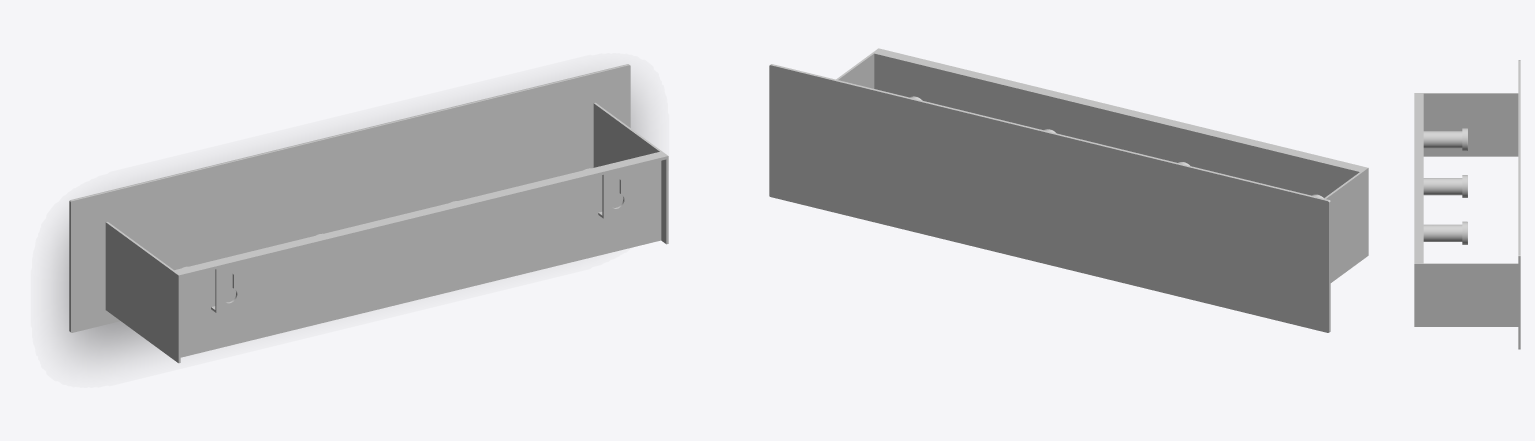
The model's file is skyline-hook.1c30da777a.ar.glb.
3 views of the same model, side by side, from view 1: azimuth 30°, elevation 25°; view 2: azimuth 150°, elevation 25°; view 3: azimuth 270°, elevation 25° (orthographic). The views are drawn at different scales.
Visible parts, largest first — view 1: NAUO1, object 2; view 2: NAUO1; view 3: NAUO1.
Part boxes in pixels (x1=…): NAUO1: x1=69, y1=64, x2=668, y2=363; object 2: x1=58, y1=98, x2=641, y2=356; NAUO1: x1=769, y1=48, x2=1368, y2=332; NAUO1: x1=1414, y1=60, x2=1520, y2=349.
Bounding box in the file's own units: 0.48 × 0.17 × 0.092.
2 materials, 1 textured.
